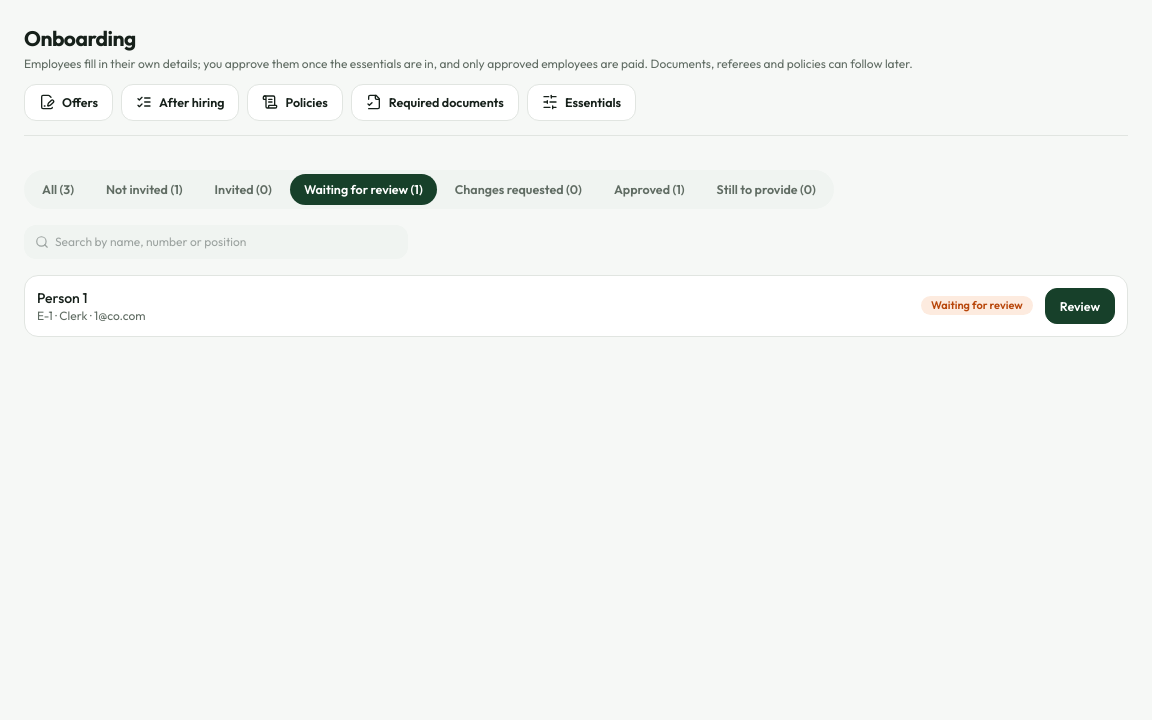
OnboardingReview › can’t approve while HR’s own part is missing, and says what it is
What coordinates should you click on to do the following:
click the button "Review"
I would click on:
 (1080, 306)
Its box is [1045, 288, 1115, 324].
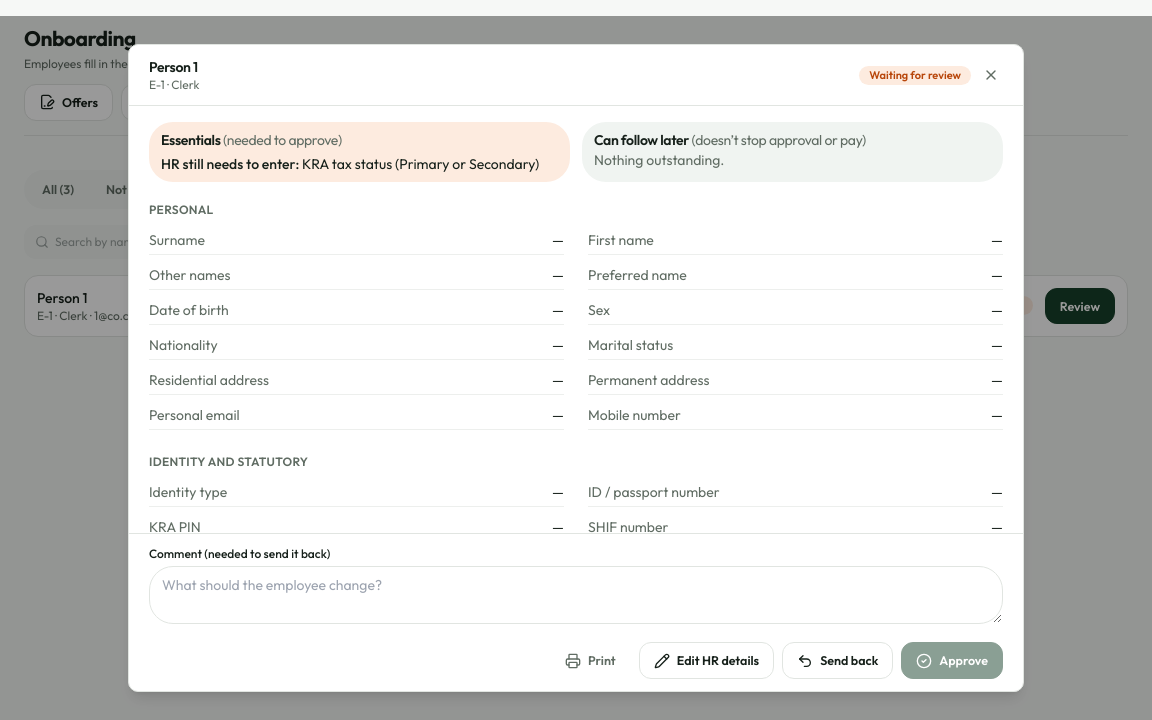
Check: the text "KRA tax status (Primary or Secondary)" is shown, box [302, 155, 539, 173]
Check: the button "Approve" is disabled, box [901, 642, 1003, 679]
